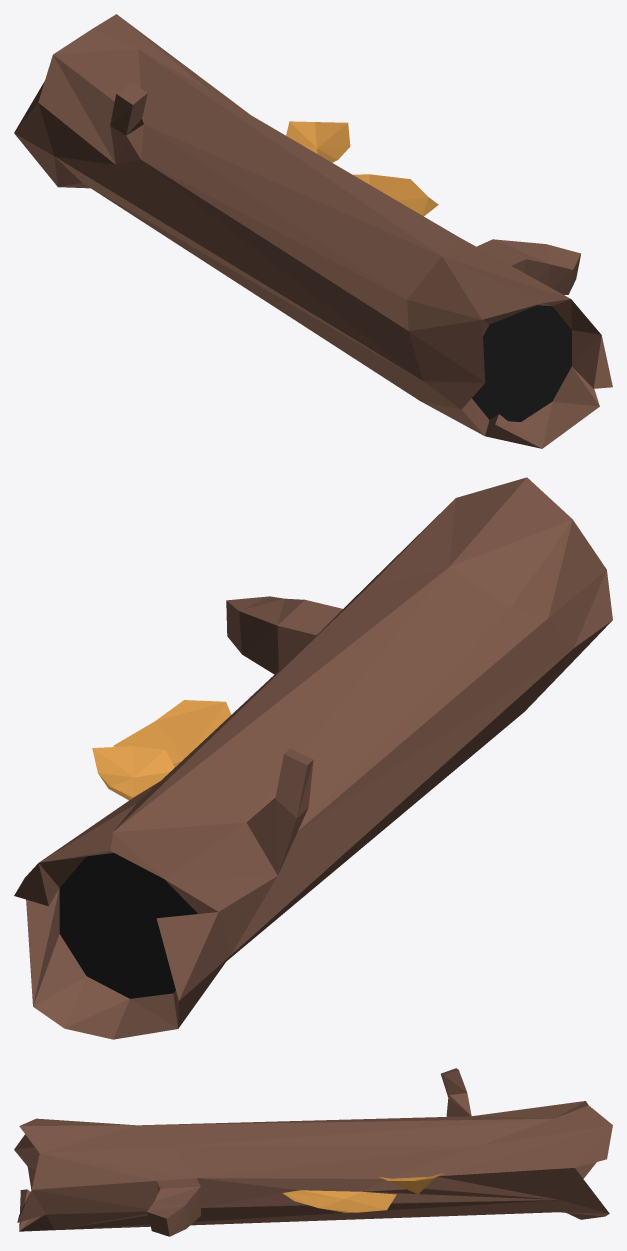
File: Log.glb
3 renders of one model, top to bottom at view 1: azimuth 30°, elevation 25°; view 2: azimuth 150°, elevation 25°; view 3: azimuth 270°, elevation 25°, orthographic. The views are drawn at different scales.
Visible parts, largest first — view 1: group1819006870; view 2: group1819006870; view 3: group1819006870.
Boxes of the visible parts, <box> form: group1819006870: <box>14,14,612,448</box>; group1819006870: <box>14,477,612,1039</box>; group1819006870: <box>14,1068,612,1236</box>.
Size of the model in its own units: 0.42 by 0.271 by 1.12.
